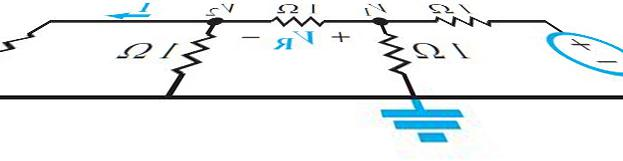resistor: (171, 29, 223, 71), (371, 29, 407, 79), (429, 10, 500, 30), (262, 11, 331, 27)
